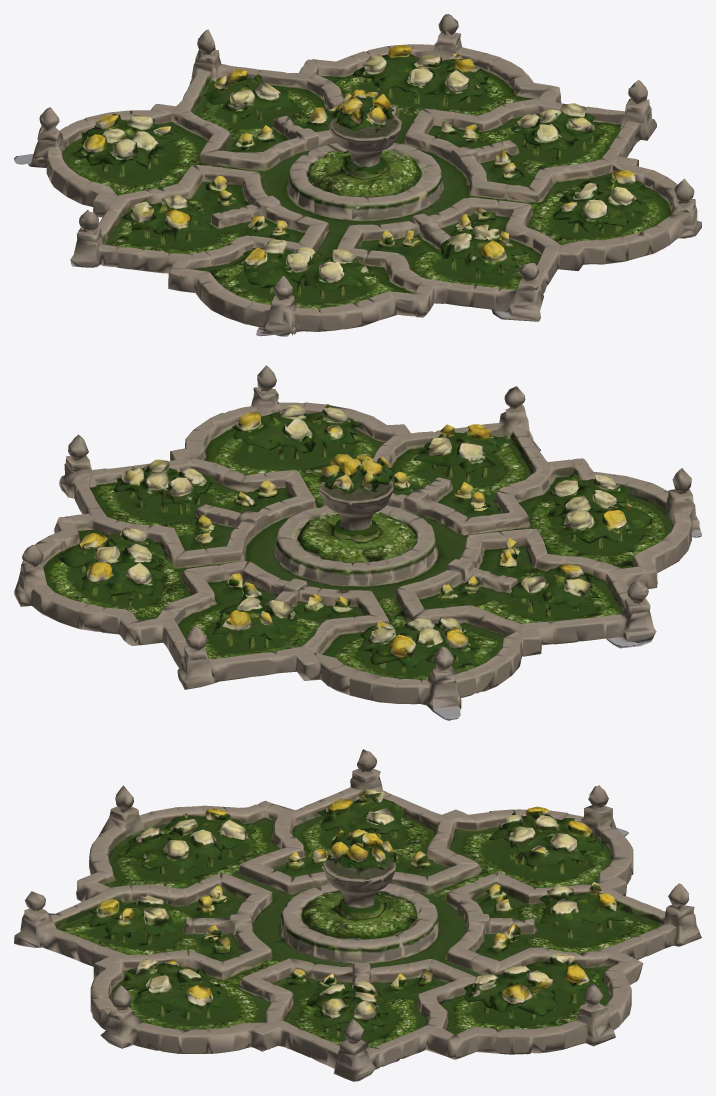
The model's file is flower_bed_square_a.glb.
The picture shows the model from 3 angles, top to bottom: view 1: azimuth 30°, elevation 25°; view 2: azimuth 150°, elevation 25°; view 3: azimuth 270°, elevation 25°; orthographic projection. The views are drawn at different scales.
Visible parts, largest first — view 1: tripo_node_1babe7ba-2769-4cb8-a874-c67215bc231e; view 2: tripo_node_1babe7ba-2769-4cb8-a874-c67215bc231e; view 3: tripo_node_1babe7ba-2769-4cb8-a874-c67215bc231e.
Boxes of the visible parts, bbox=[...] form: tripo_node_1babe7ba-2769-4cb8-a874-c67215bc231e: bbox=[14, 14, 701, 336]; tripo_node_1babe7ba-2769-4cb8-a874-c67215bc231e: bbox=[14, 365, 701, 720]; tripo_node_1babe7ba-2769-4cb8-a874-c67215bc231e: bbox=[14, 749, 701, 1081].
Size of the model in its own units: 0.9767 by 0.174 by 0.9797.
Materials: 1 (1 with a texture image).
